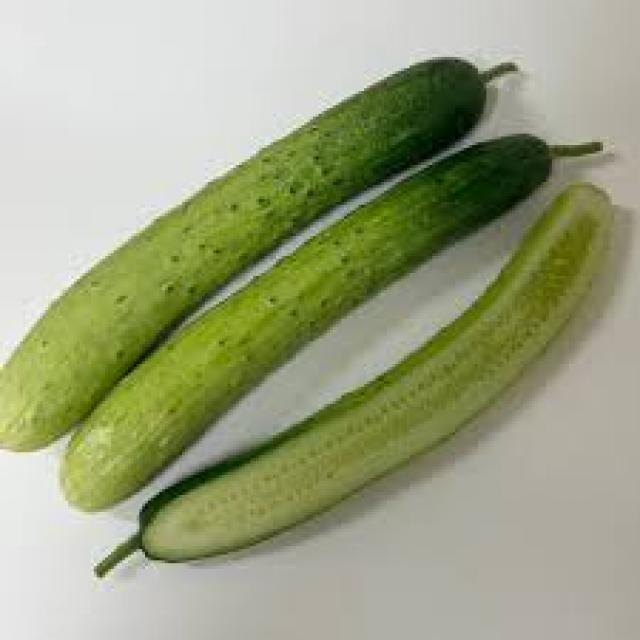cucumber: (0, 60, 518, 451), (63, 137, 549, 511)
